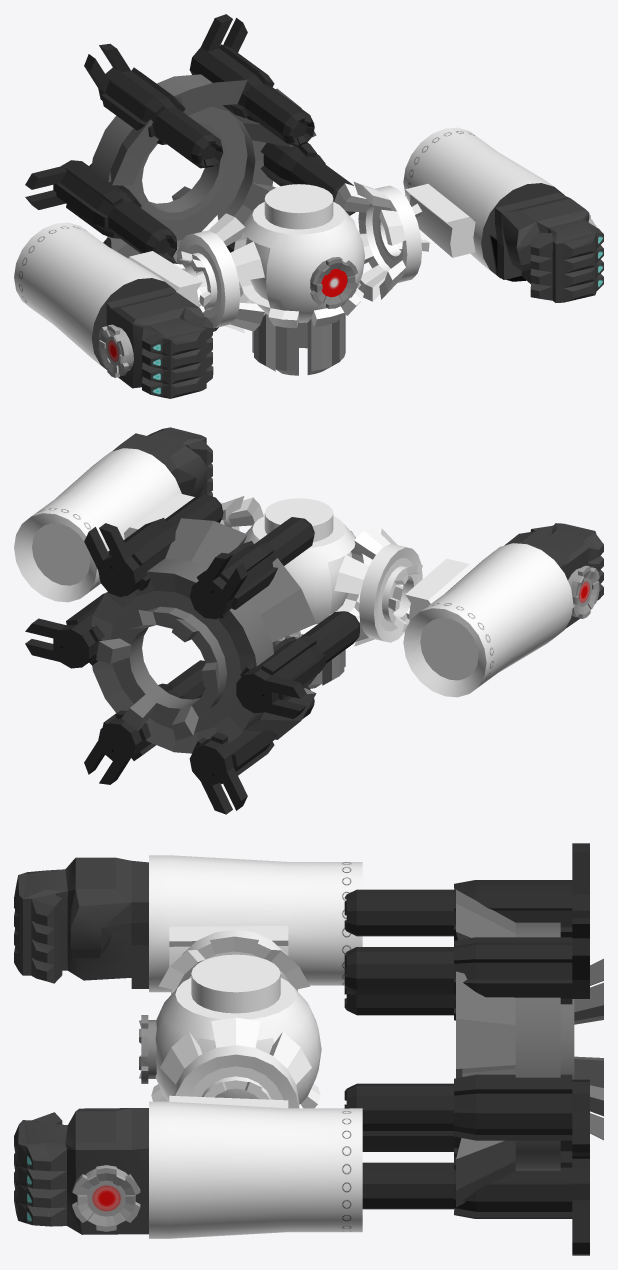
The model's file is O_005_BOSS_Enemy_06.fbx.
The picture shows the model from 3 angles, top to bottom: view 1: azimuth 30°, elevation 25°; view 2: azimuth 150°, elevation 25°; view 3: azimuth 270°, elevation 25°; orthographic projection. The views are drawn at different scales.
Parts seen in each view (by area): view 1: オブジェクト001, オブジェクト002, Sphere002, Cylinder003, Cylinder006, Cylinder011, Cylinder002, Cylinder001, Cylinder010, Cylinder009; view 2: Cylinder003, オブジェクト001, オブジェクト002, Sphere002, Cylinder006, Cylinder001, Cylinder011, Cylinder010, Cylinder007, Cylinder008, Cylinder009, Cylinder002; view 3: オブジェクト002, オブジェクト001, Cylinder003, Cylinder009, Cylinder010, Sphere002, Cylinder008, Cylinder011, Cylinder002, Cylinder001, Cylinder006, Cylinder007.
Part boxes in pixels (bbox=[...]): オブジェクト001: bbox=[14, 222, 213, 398]; オブジェクト002: bbox=[403, 127, 603, 302]; Sphere002: bbox=[234, 184, 364, 375]; Cylinder003: bbox=[91, 74, 316, 273]; Cylinder006: bbox=[25, 160, 176, 259]; Cylinder011: bbox=[84, 44, 223, 168]; Cylinder002: bbox=[334, 182, 429, 301]; Cylinder001: bbox=[174, 213, 264, 333]; Cylinder010: bbox=[189, 14, 314, 146]; Cylinder009: bbox=[260, 142, 355, 215]; Cylinder003: bbox=[91, 518, 316, 753]; オブジェクト001: bbox=[403, 523, 603, 697]; オブジェクト002: bbox=[14, 427, 212, 602]; Sphere002: bbox=[244, 498, 363, 688]; Cylinder006: bbox=[236, 611, 359, 718]; Cylinder001: bbox=[334, 526, 422, 646]; Cylinder011: bbox=[190, 517, 314, 619]; Cylinder010: bbox=[84, 494, 223, 597]; Cylinder007: bbox=[189, 686, 314, 814]; Cylinder008: bbox=[84, 660, 205, 784]; Cylinder009: bbox=[25, 593, 105, 668]; Cylinder002: bbox=[220, 496, 263, 530]; オブジェクト002: bbox=[14, 1095, 362, 1238]; オブジェクト001: bbox=[14, 855, 362, 992]; Cylinder003: bbox=[456, 889, 603, 1207]; Cylinder009: bbox=[344, 1074, 589, 1152]; Cylinder010: bbox=[344, 918, 589, 1004]; Sphere002: bbox=[139, 954, 321, 1108]; Cylinder008: bbox=[362, 1153, 589, 1255]; Cylinder011: bbox=[344, 843, 589, 941]; Cylinder002: bbox=[160, 1017, 311, 1108]; Cylinder001: bbox=[158, 929, 310, 994]; Cylinder006: bbox=[344, 987, 455, 1020]; Cylinder007: bbox=[362, 1131, 589, 1158].
Size of the model in its own units: 21047 by 10671 by 17211.
Materials: 1 (1 with a texture image).
